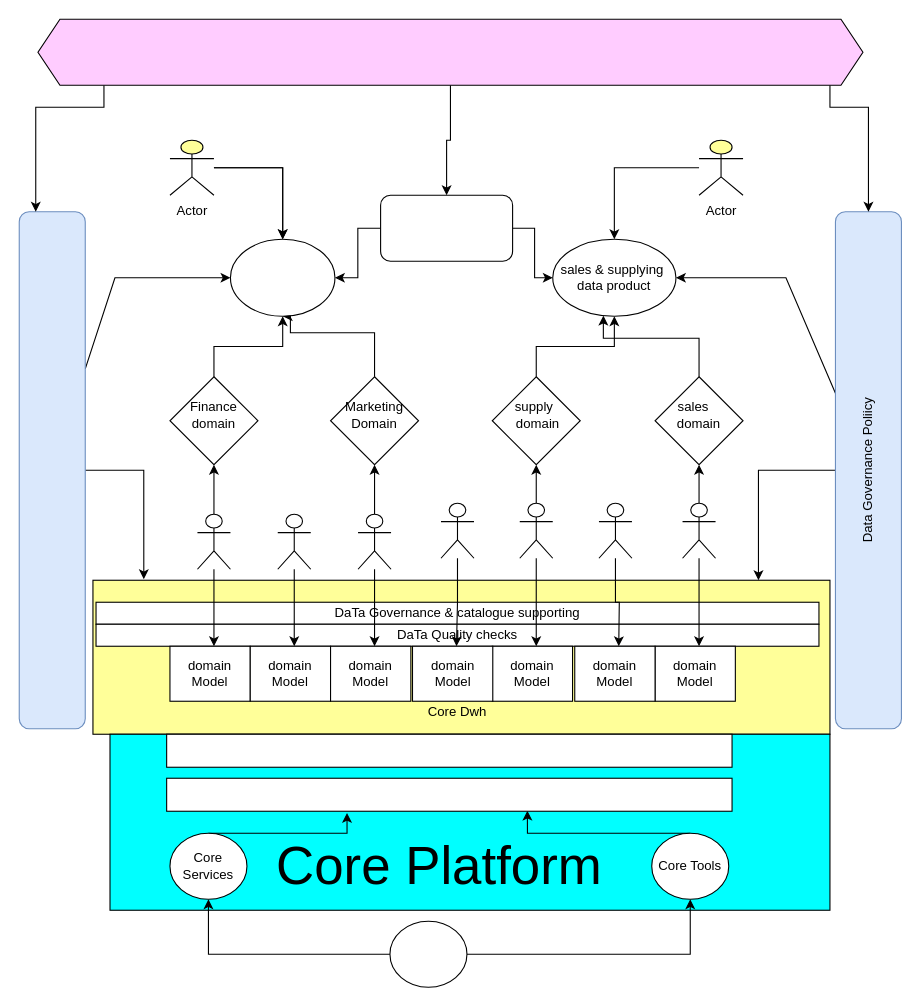
Image size: 921x1007. Some labels were removed from this diagram. Here are the shapes that lost their labels. From the top down, the centre of each, then its label:
At pixel 450 51: "Federal Data Governance, Quality , Architecture Team".
At pixel 446 227: "Architecture Guides Design Policy".
At pixel 282 277: "Data product Fin+Marketing".
At pixel 51 470: "Data Quality Policy".
At pixel 449 750: "Core Tools DE / Di / DQ / DT / DG / BI".
At pixel 449 794: "Core data infrastructure".
At pixel 428 953: "Core Team".
